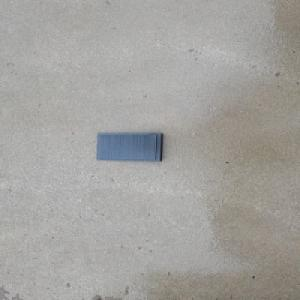PlasticPart: (95, 131, 165, 162)
